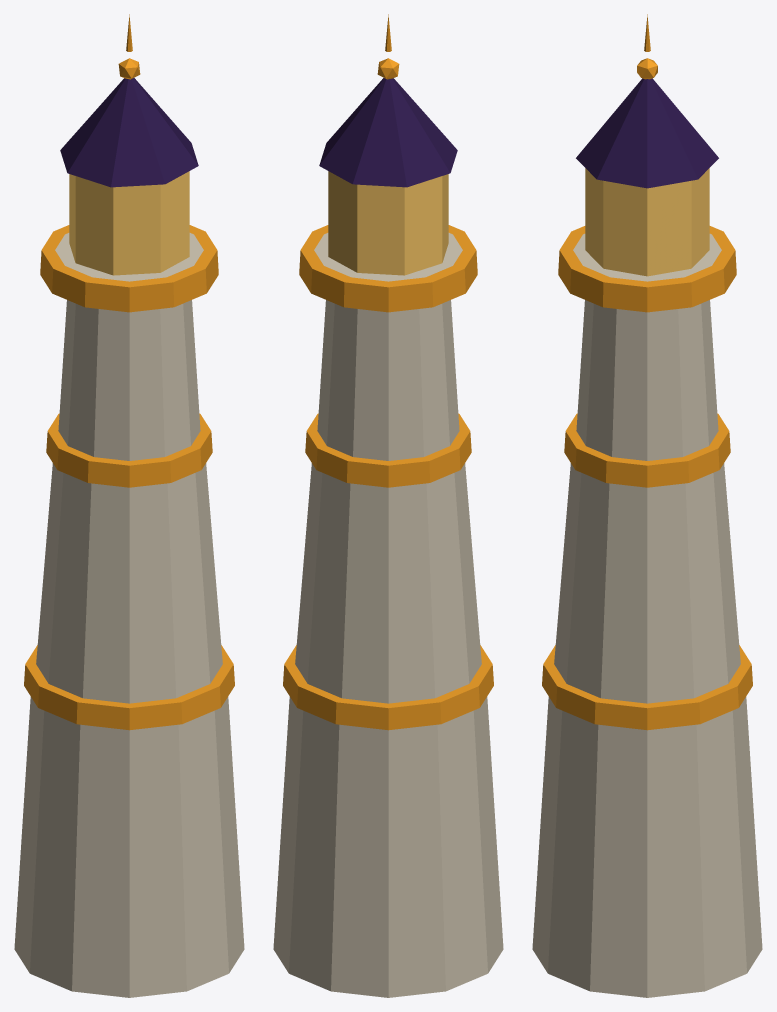
Rendered from lighthouse.glb.
The picture shows the model from 3 angles, left to right: view 1: azimuth 30°, elevation 25°; view 2: azimuth 150°, elevation 25°; view 3: azimuth 270°, elevation 25°; orthographic projection.
Parts seen in each view (by area): view 1: Lighthouse_Main; view 2: Lighthouse_Main; view 3: Lighthouse_Main.
Boxes of the visible parts, bbox=[...] form: Lighthouse_Main: bbox=[14, 14, 244, 997]; Lighthouse_Main: bbox=[273, 14, 503, 997]; Lighthouse_Main: bbox=[532, 14, 762, 997].
Bounding box in the file's own units: 3.4 × 15.25 × 3.4.
1 material, 1 textured.
